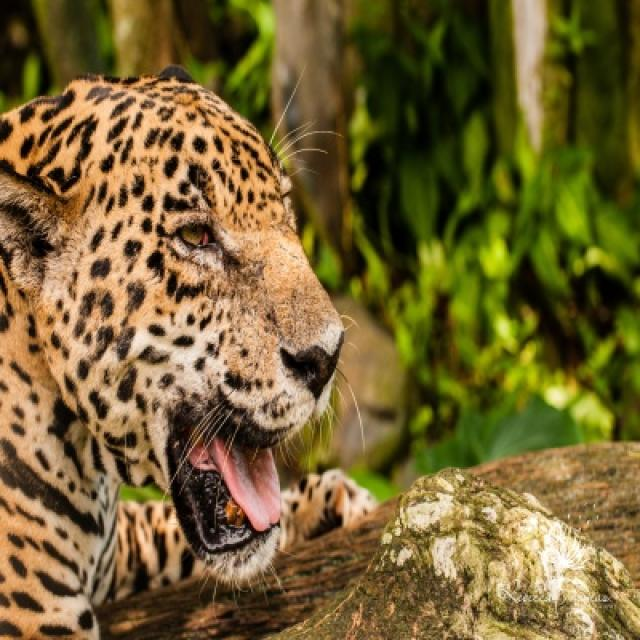Jaguar: (0, 67, 346, 638)
